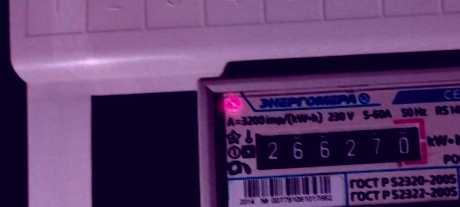0: (396, 132, 409, 154)
2: (264, 137, 279, 159), (343, 135, 356, 156)
6: (290, 138, 304, 159), (316, 137, 330, 157)
7: (368, 134, 382, 155)
screen: (244, 112, 434, 178)
